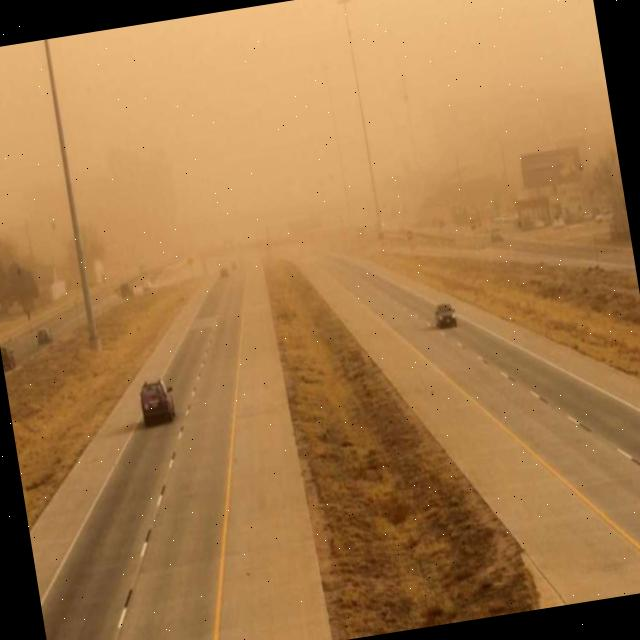car: (137, 378, 177, 427), (434, 296, 459, 330), (1, 343, 18, 372), (36, 323, 54, 345), (490, 224, 506, 242)
